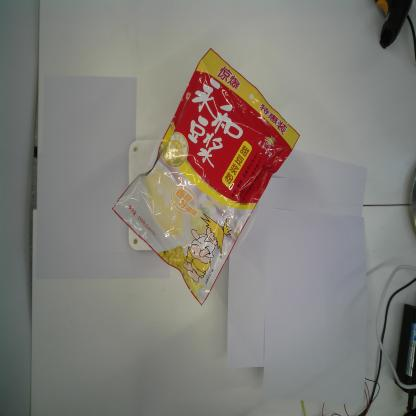Instant Drink: (110, 47, 302, 306)
